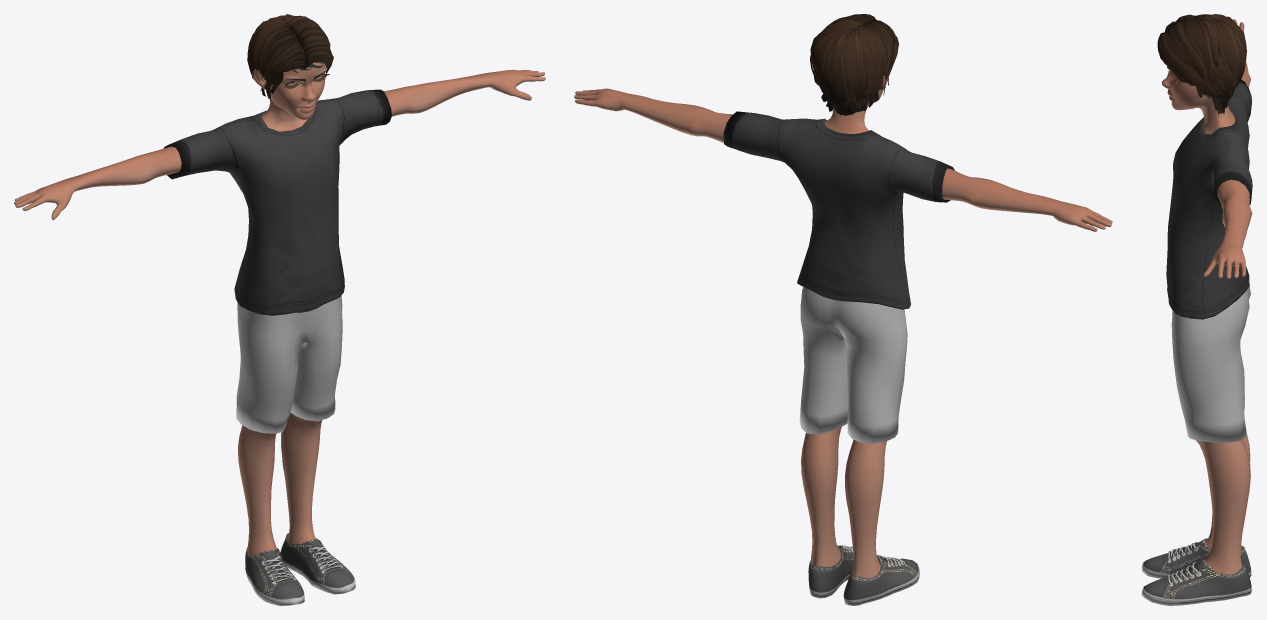
File: little boy game.obj
The picture shows the model from 3 angles, left to right: view 1: azimuth 30°, elevation 25°; view 2: azimuth 150°, elevation 25°; view 3: azimuth 270°, elevation 25°; orthographic projection.
Visible parts, largest first — view 1: Tops, Body, Bottoms, Shoes, Hair; view 2: Tops, Body, Bottoms, Hair, Shoes; view 3: Tops, Body, Bottoms, Hair, Shoes.
Boxes of the visible parts, x1=… form: Tops: x1=163, y1=89, x2=391, y2=315; Body: x1=14, y1=26, x2=545, y2=554; Bottoms: x1=236, y1=295, x2=342, y2=433; Shoes: x1=245, y1=533, x2=355, y2=605; Hair: x1=247, y1=14, x2=333, y2=100; Tops: x1=723, y1=111, x2=954, y2=309; Body: x1=574, y1=24, x2=1112, y2=578; Bottoms: x1=799, y1=287, x2=907, y2=443; Hair: x1=810, y1=14, x2=898, y2=115; Shoes: x1=808, y1=545, x2=919, y2=605; Tops: x1=1166, y1=80, x2=1252, y2=319; Body: x1=1162, y1=19, x2=1252, y2=574; Bottoms: x1=1171, y1=286, x2=1250, y2=442; Hair: x1=1157, y1=14, x2=1246, y2=114; Shoes: x1=1141, y1=538, x2=1251, y2=605.
Size of the model in its own units: 166 by 167 by 29.62.
